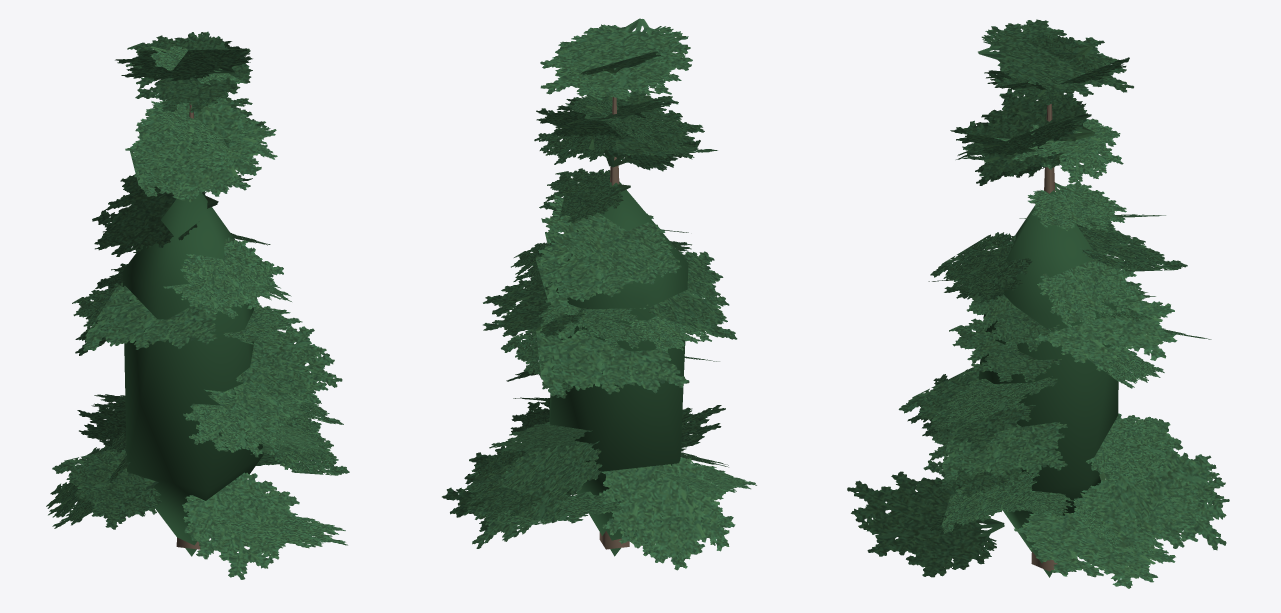
File: GEN_CONIFERA_2.glb
The picture shows the model from 3 angles, left to right: view 1: azimuth 30°, elevation 25°; view 2: azimuth 150°, elevation 25°; view 3: azimuth 270°, elevation 25°; orthographic projection. The views are drawn at different scales.
Visible parts, largest first — view 1: Arv_GEN_CONIFERA_lod2; view 2: Arv_GEN_CONIFERA_lod2; view 3: Arv_GEN_CONIFERA_lod2.
Boxes of the visible parts, bbox=[...] form: Arv_GEN_CONIFERA_lod2: bbox=[46, 31, 349, 579]; Arv_GEN_CONIFERA_lod2: bbox=[442, 18, 756, 570]; Arv_GEN_CONIFERA_lod2: bbox=[847, 19, 1229, 588].
Bounding box in the file's own units: 6.96 × 10.41 × 7.78.
3 materials, 1 textured.
